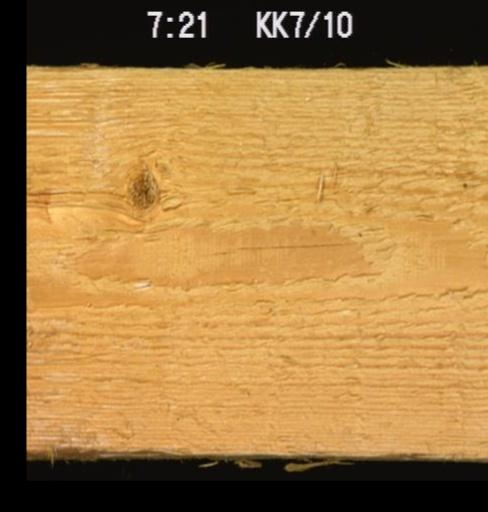sound_knot: (123, 162, 161, 214)
split: (208, 229, 373, 254), (26, 175, 125, 203)
wave: (26, 435, 196, 460)
